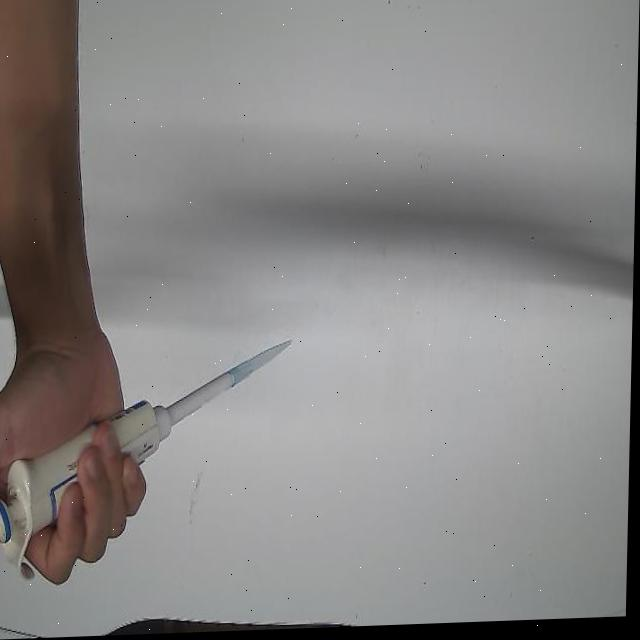Micropipette Tip 1000 uL: (228, 339, 299, 393)
Single Channel Pipettor: (0, 359, 255, 581)
